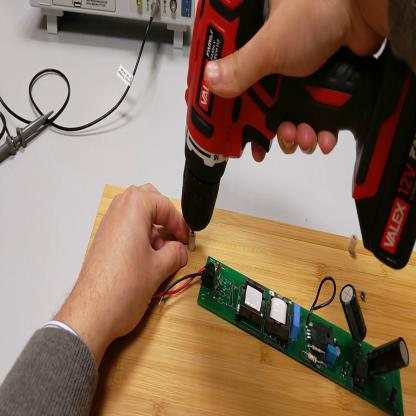electric screwdriver: (182, 2, 415, 271)
hand: (203, 2, 386, 154), (78, 181, 195, 343)
high voltage board: (152, 228, 410, 415)
oscilloscope: (30, 2, 195, 53)
oscilloscope probe tip: (1, 102, 58, 164)
working area: (86, 186, 416, 415)
